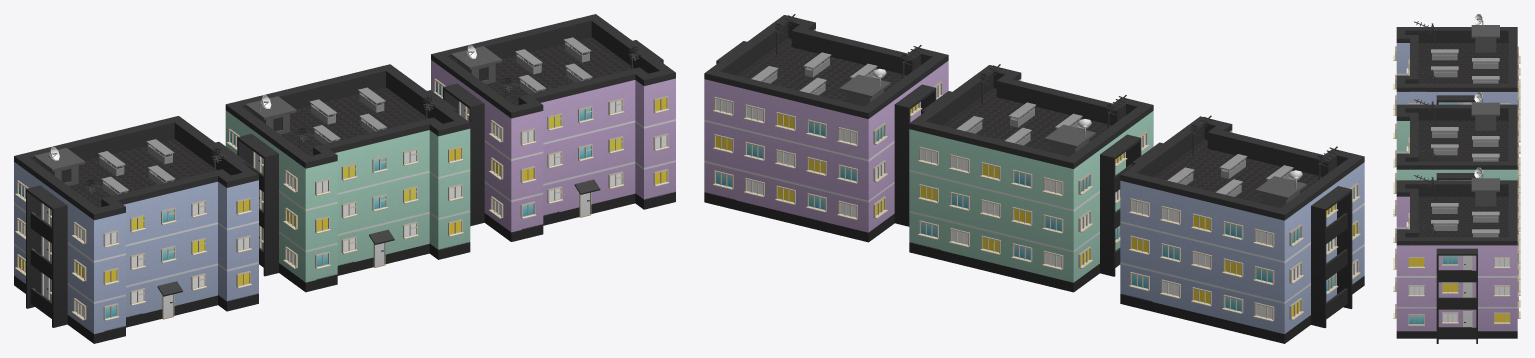
File: House1.fbx
The picture shows the model from 3 angles, left to right: view 1: azimuth 30°, elevation 25°; view 2: azimuth 150°, elevation 25°; view 3: azimuth 270°, elevation 25°; orthographic projection. The views are drawn at different scales.
Visible parts, largest first — view 1: House_v3, House_v1, House_v2; view 2: House_v3, House_v1, House_v2; view 3: House_v2, House_v3, House_v1.
Part boxes in pixels (bbox=[...]): House_v3: bbox=[14, 116, 258, 343]; House_v1: bbox=[225, 64, 470, 292]; House_v2: bbox=[431, 14, 675, 241]; House_v3: bbox=[1120, 115, 1364, 343]; House_v1: bbox=[909, 64, 1153, 292]; House_v2: bbox=[704, 14, 948, 242]; House_v2: bbox=[1393, 167, 1520, 343]; House_v3: bbox=[1393, 14, 1520, 161]; House_v1: bbox=[1393, 92, 1520, 231].
Size of the model in its own units: 6681 by 1600 by 1597.
